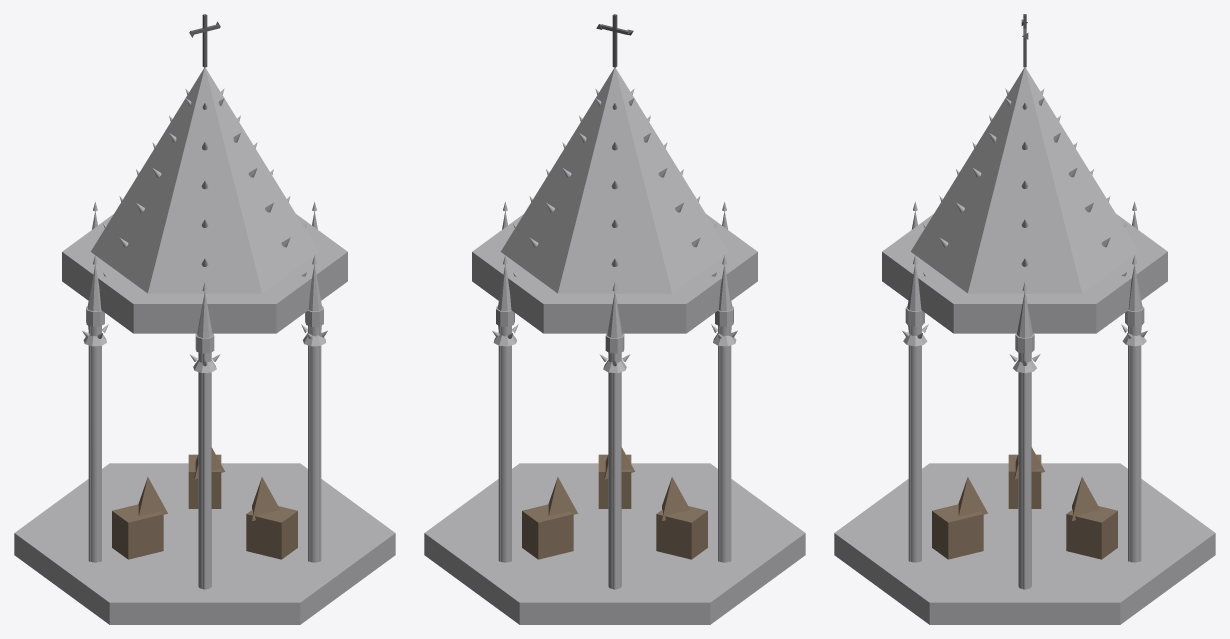
3 views of the same model, side by side, from view 1: azimuth 30°, elevation 25°; view 2: azimuth 150°, elevation 25°; view 3: azimuth 270°, elevation 25° (orthographic).
Parts seen in each view (by area): view 1: Stone_Floor, Gothic_Spire, Spire_Drum, Bench_Seat_0, Bench_Seat_1, Gothic_Column_5, Gothic_Column_6, Gothic_Column_4, Bench_Seat_2, Cluster_Shaft_5_0, Cluster_Shaft_4_0, Cluster_Shaft_6_0 (+4 smaller); view 2: Stone_Floor, Gothic_Spire, Spire_Drum, Bench_Seat_2, Bench_Seat_0, Gothic_Column_3, Gothic_Column_2, Gothic_Column_4, Bench_Seat_1, Cluster_Shaft_3_0, Cluster_Shaft_4_0, Cluster_Shaft_2_0 (+4 smaller); view 3: Stone_Floor, Gothic_Spire, Spire_Drum, Bench_Seat_1, Bench_Seat_2, Gothic_Column_1, Gothic_Column_2, Gothic_Column_6, Bench_Seat_0, Cluster_Shaft_1_0, Cluster_Shaft_2_0, Cluster_Shaft_6_0 (+4 smaller).
Boxes of the visible parts, <box> form: Stone_Floor: <box>14,463,395,624</box>; Gothic_Spire: <box>91,67,318,293</box>; Spire_Drum: <box>62,214,347,333</box>; Bench_Seat_0: <box>112,504,163,559</box>; Bench_Seat_1: <box>246,506,297,559</box>; Gothic_Column_5: <box>198,352,211,588</box>; Gothic_Column_6: <box>310,326,318,562</box>; Gothic_Column_4: <box>91,326,99,562</box>; Bench_Seat_2: <box>188,454,221,508</box>; Cluster_Shaft_5_0: <box>203,353,206,589</box>; Cluster_Shaft_4_0: <box>88,326,90,561</box>; Cluster_Shaft_6_0: <box>319,326,321,561</box>; Stone_Floor: <box>424,463,805,624</box>; Gothic_Spire: <box>501,67,728,293</box>; Spire_Drum: <box>472,214,757,333</box>; Bench_Seat_2: <box>522,504,573,559</box>; Bench_Seat_0: <box>656,506,707,559</box>; Gothic_Column_3: <box>608,352,621,588</box>; Gothic_Column_2: <box>501,326,509,562</box>; Gothic_Column_4: <box>720,326,728,562</box>; Bench_Seat_1: <box>598,454,631,508</box>; Cluster_Shaft_3_0: <box>613,353,616,589</box>; Cluster_Shaft_4_0: <box>729,326,731,561</box>; Cluster_Shaft_2_0: <box>498,326,500,561</box>; Stone_Floor: <box>834,463,1215,624</box>; Gothic_Spire: <box>911,67,1138,293</box>; Spire_Drum: <box>882,214,1167,333</box>; Bench_Seat_1: <box>932,504,983,559</box>; Bench_Seat_2: <box>1066,506,1117,559</box>; Gothic_Column_1: <box>1018,352,1031,588</box>; Gothic_Column_2: <box>1130,326,1138,562</box>; Gothic_Column_6: <box>911,326,919,562</box>; Bench_Seat_0: <box>1008,454,1041,508</box>; Cluster_Shaft_1_0: <box>1023,353,1026,589</box>; Cluster_Shaft_2_0: <box>1139,326,1141,561</box>; Cluster_Shaft_6_0: <box>908,326,910,561</box>.
Size of the model in its own units: 4.04 by 7.3 by 4.67.
